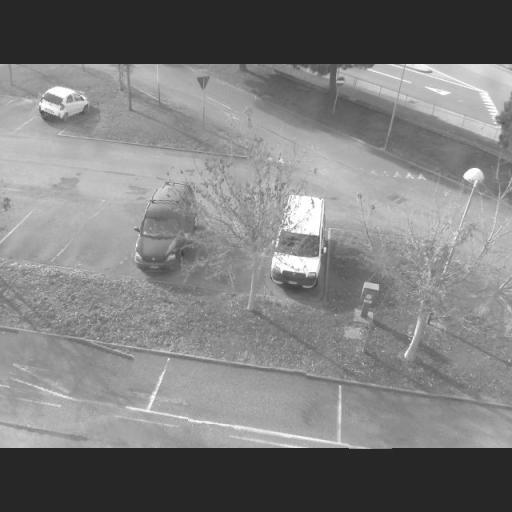busy: (126, 186, 208, 278), (34, 85, 92, 126)
free: (11, 335, 133, 404), (348, 395, 480, 448), (186, 368, 308, 424), (77, 206, 133, 277), (22, 204, 74, 265), (6, 98, 32, 128)
